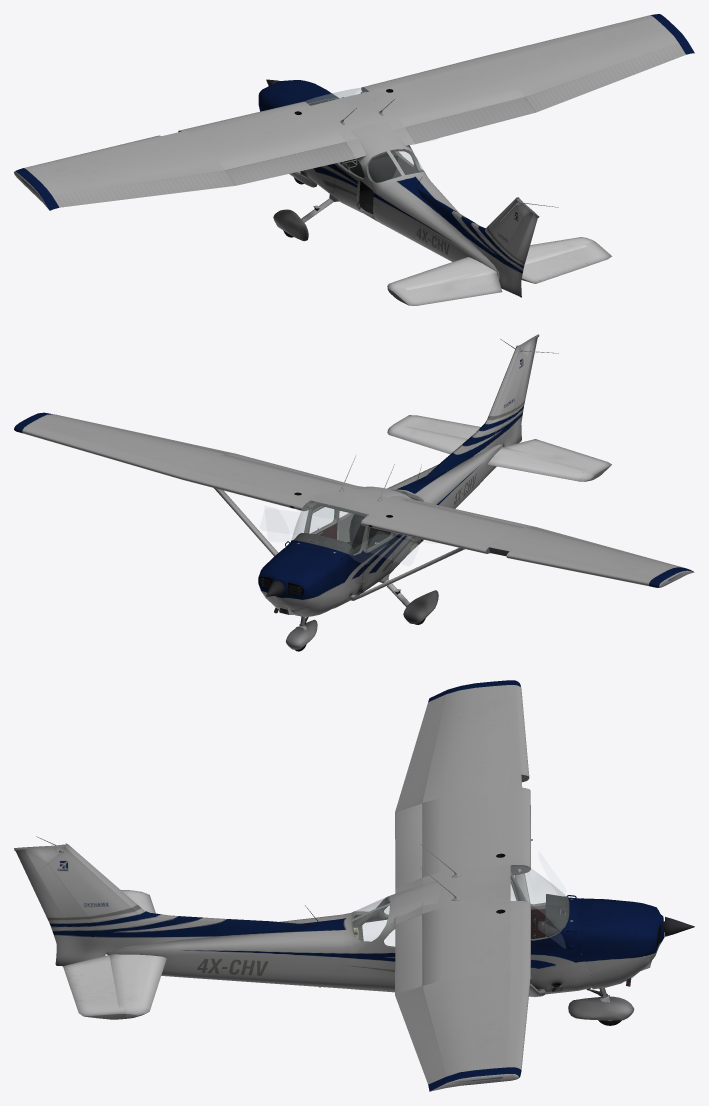
3 views of the same model, one above another, from view 1: azimuth 30°, elevation 25°; view 2: azimuth 150°, elevation 25°; view 3: azimuth 270°, elevation 25° (orthographic). The views are drawn at different scales.
Size of the model in its own units: 11.27 by 2.43 by 8.23.
Materials: 83 (80 with a texture image).
